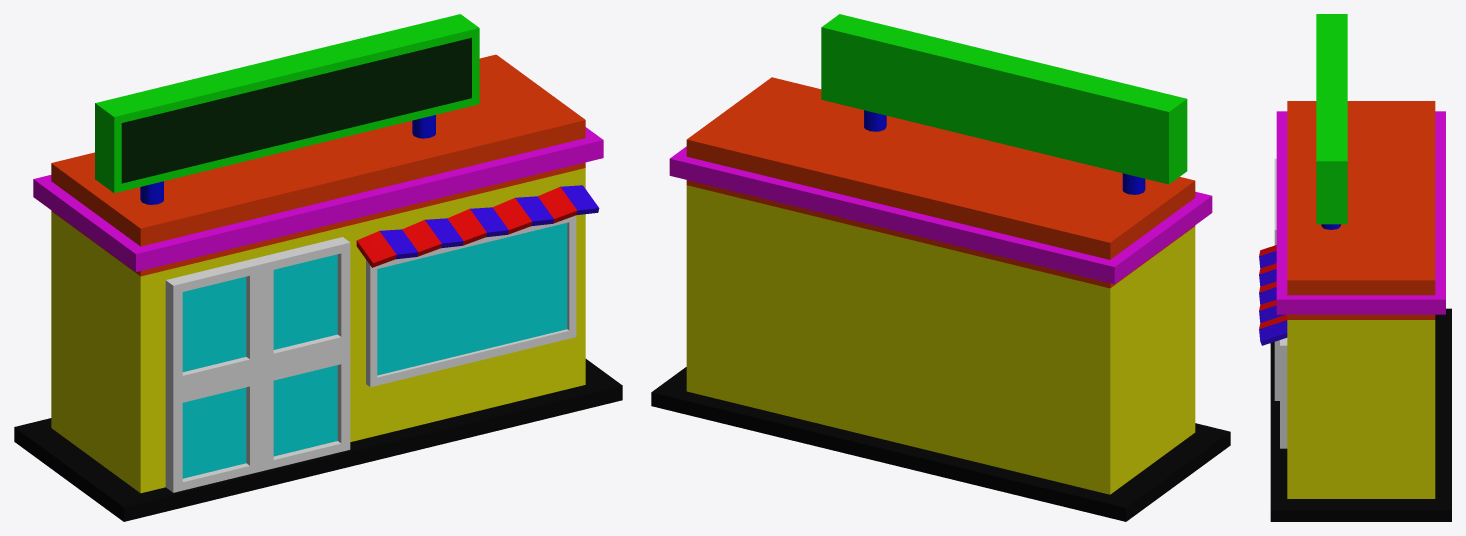
The model's file is Building_D.fbx.
3 renders of one model, left to right at view 1: azimuth 30°, elevation 25°; view 2: azimuth 150°, elevation 25°; view 3: azimuth 270°, elevation 25°, orthographic. The views are drawn at different scales.
Visible parts, largest first — view 1: Building_D; view 2: Building_D; view 3: Building_D.
Part boxes in pixels (left/top/right/bottom): Building_D: left=14, top=14, right=622, bottom=521; Building_D: left=651, top=14, right=1230, bottom=521; Building_D: left=1259, top=14, right=1451, bottom=521.
Bounding box in the file's own units: 579 × 422 × 235.
